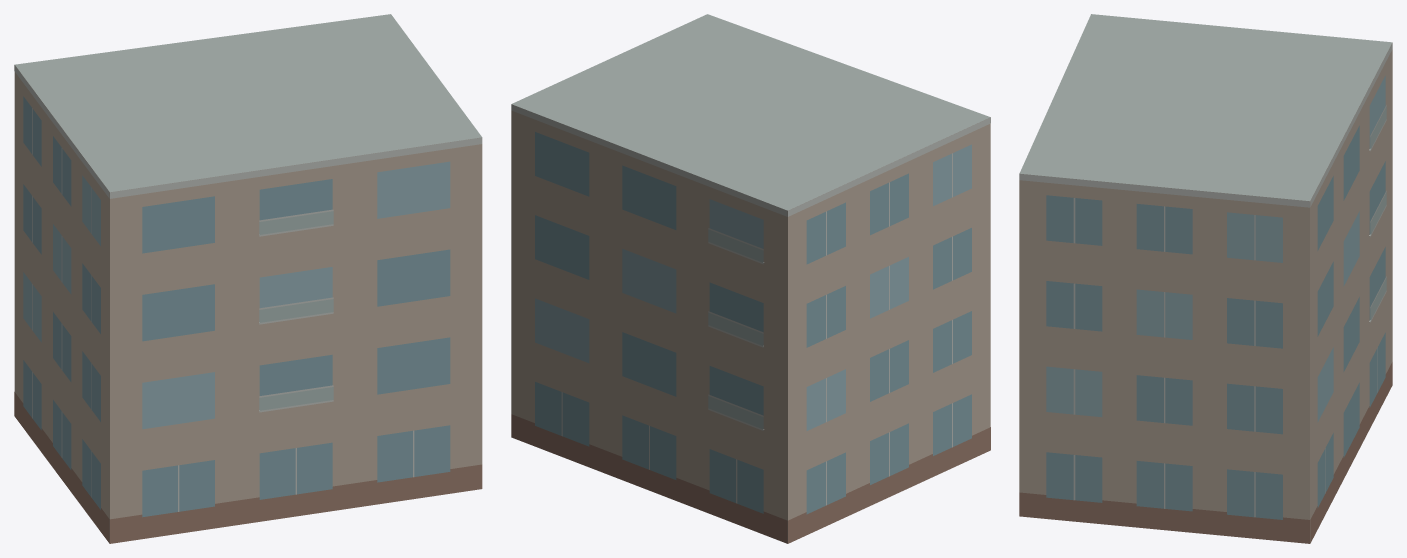
File: survey-upis-32944753.glb
The picture shows the model from 3 angles, left to right: view 1: azimuth 30°, elevation 25°; view 2: azimuth 150°, elevation 25°; view 3: azimuth 270°, elevation 25°; orthographic projection. The views are drawn at different scales.
Parts seen in each view (by area): view 1: survey-upis-32944753.tmp; view 2: survey-upis-32944753.tmp; view 3: survey-upis-32944753.tmp.
Boxes of the visible parts, x1,y1,x2,y2 form: survey-upis-32944753.tmp: (14, 14, 482, 543); survey-upis-32944753.tmp: (511, 14, 990, 543); survey-upis-32944753.tmp: (1019, 14, 1392, 543).
Bounding box in the file's own units: 15.12 × 12.9 × 12.75.
